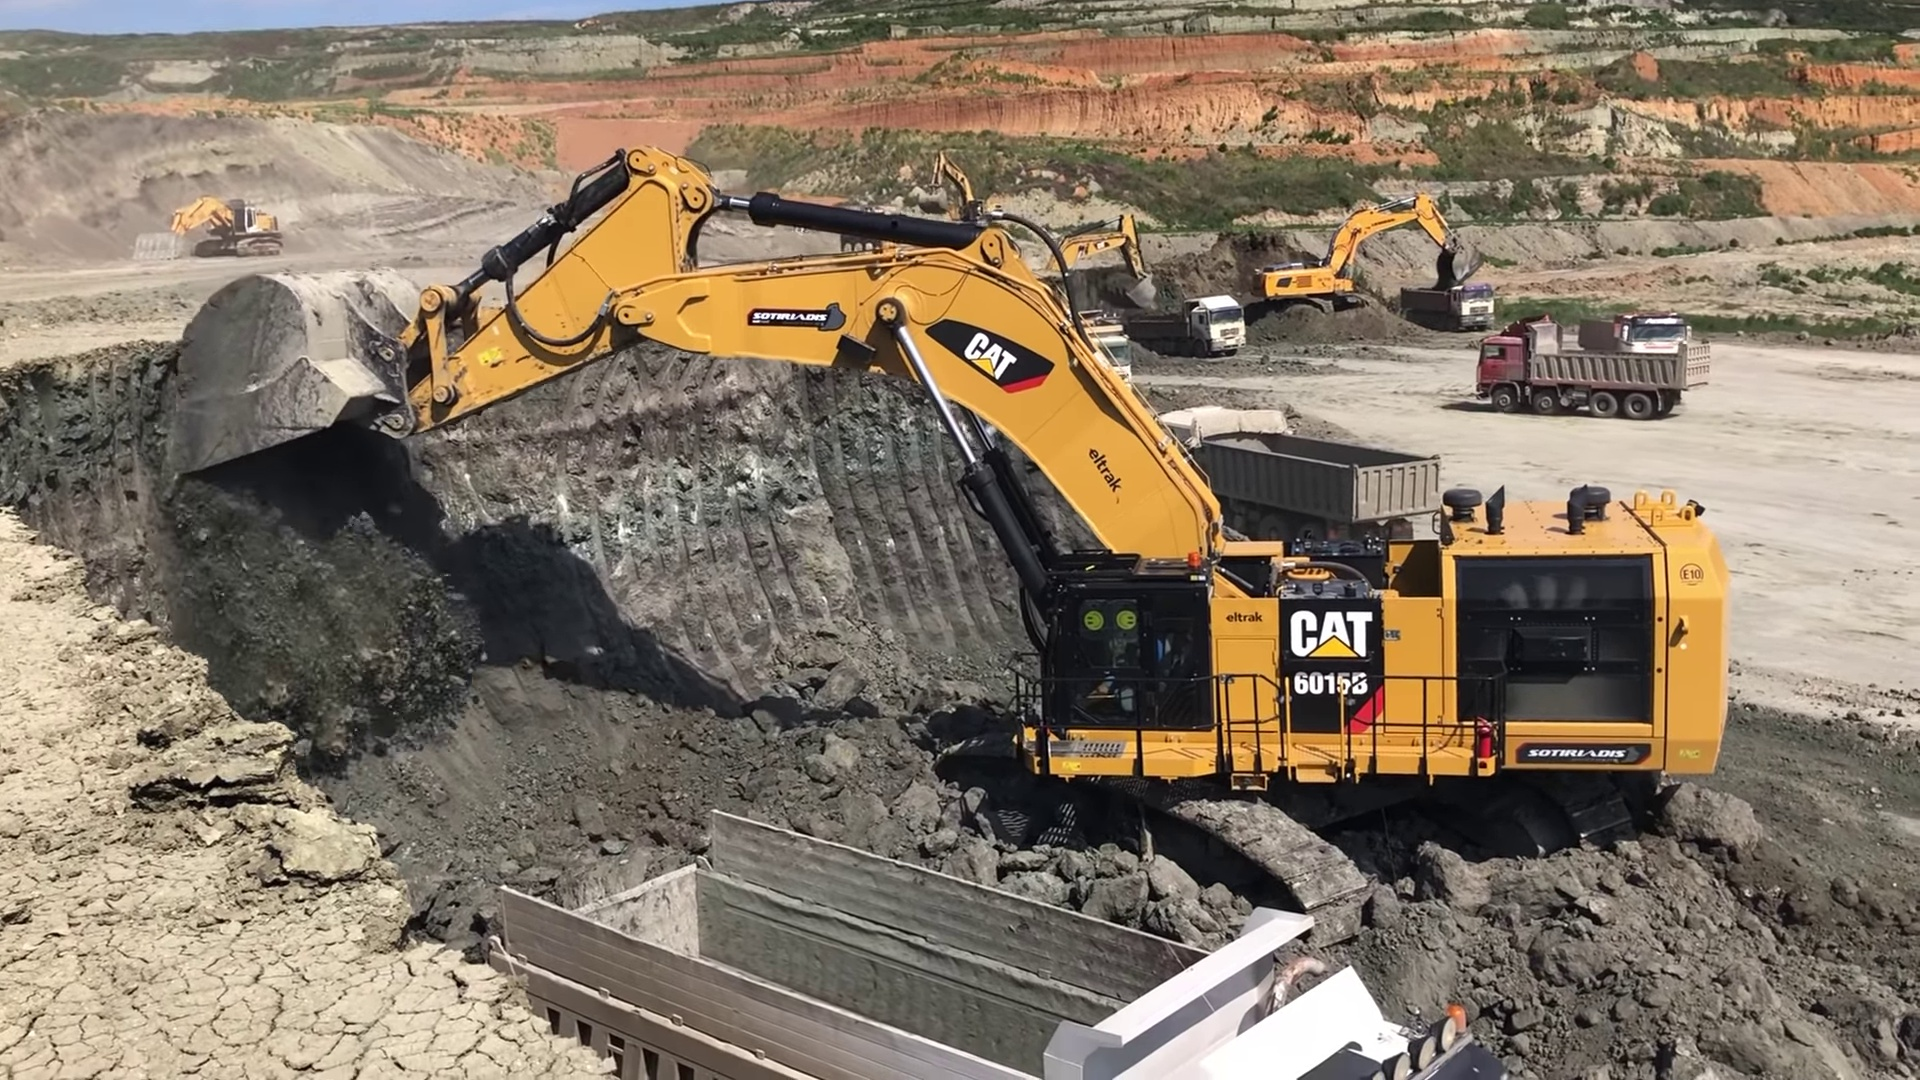excavator: (166, 150, 1726, 832), (1253, 199, 1480, 326), (1035, 204, 1156, 301), (914, 140, 997, 272), (135, 196, 285, 264)
truck: (491, 806, 1539, 1080), (1141, 404, 1435, 538), (1470, 310, 1718, 419), (1130, 290, 1247, 347), (1400, 277, 1494, 323)
